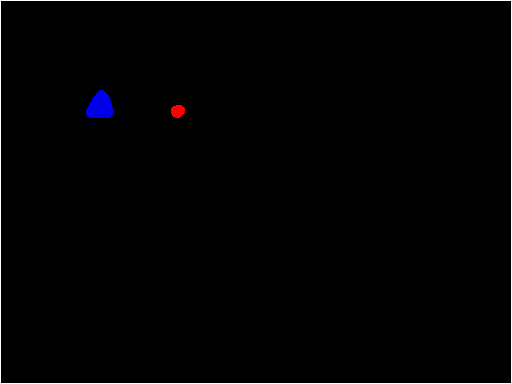chipped: (85, 91, 110, 115)
detached: (169, 102, 187, 119)
